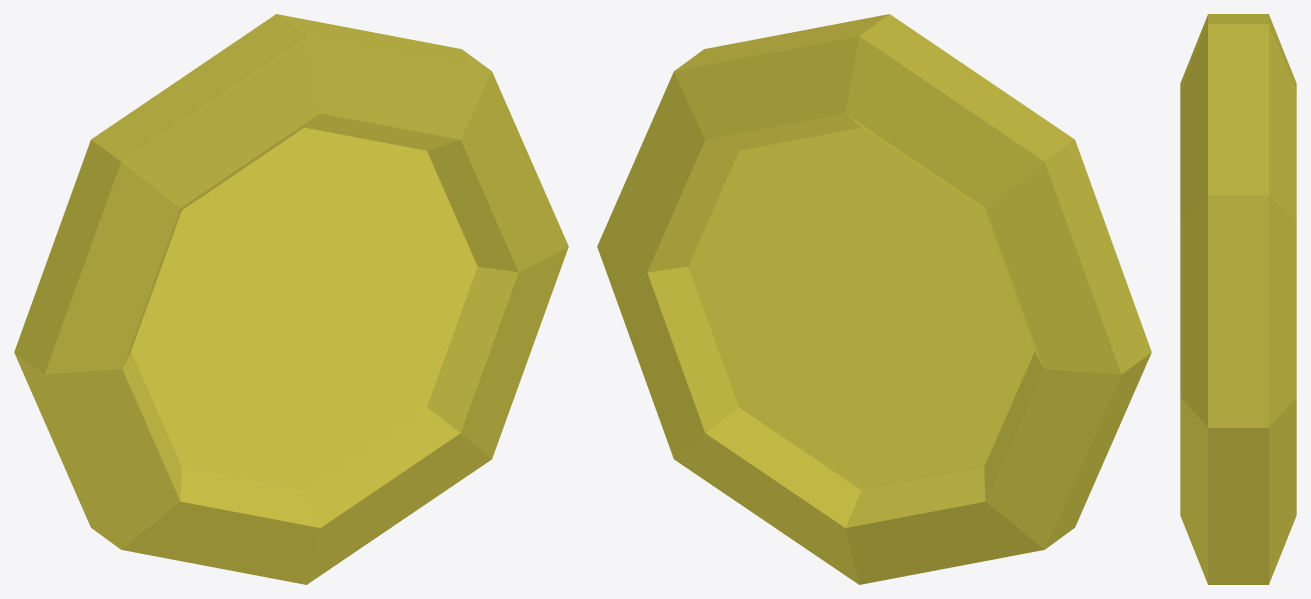
The model's file is coin.glb.
3 renders of one model, left to right at view 1: azimuth 30°, elevation 25°; view 2: azimuth 150°, elevation 25°; view 3: azimuth 270°, elevation 25°, orthographic.
Parts seen in each view (by area): view 1: coin; view 2: coin; view 3: coin.
Part boxes in pixels (x1=…): coin: x1=14, y1=14, x2=568, y2=584; coin: x1=597, y1=14, x2=1151, y2=584; coin: x1=1180, y1=14, x2=1296, y2=584.
Size of the model in its own units: 0.6162 by 0.6162 by 0.1182.
